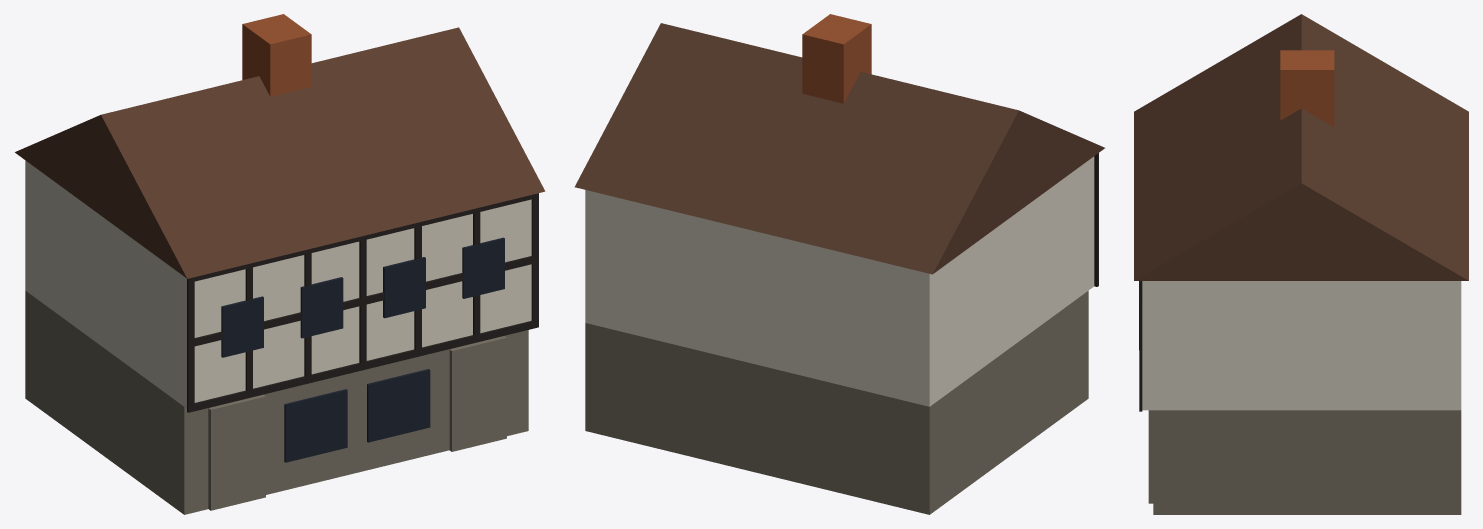
Rendered from building_westyork_s4_tudor_terrace.glb.
3 views of the same model, side by side, from view 1: azimuth 30°, elevation 25°; view 2: azimuth 150°, elevation 25°; view 3: azimuth 270°, elevation 25° (orthographic). The views are drawn at different scales.
Parts seen in each view (by area): view 1: building_westyork_s4_tudor_terrace; view 2: building_westyork_s4_tudor_terrace; view 3: building_westyork_s4_tudor_terrace.
Part boxes in pixels (x1,y1,x2,y2): building_westyork_s4_tudor_terrace: [15, 14, 545, 514]; building_westyork_s4_tudor_terrace: [574, 14, 1104, 514]; building_westyork_s4_tudor_terrace: [1134, 14, 1468, 514].
Bounding box in the file's own units: 10.4 × 10.7 × 8.7.
Materials: 1 (1 with a texture image).
